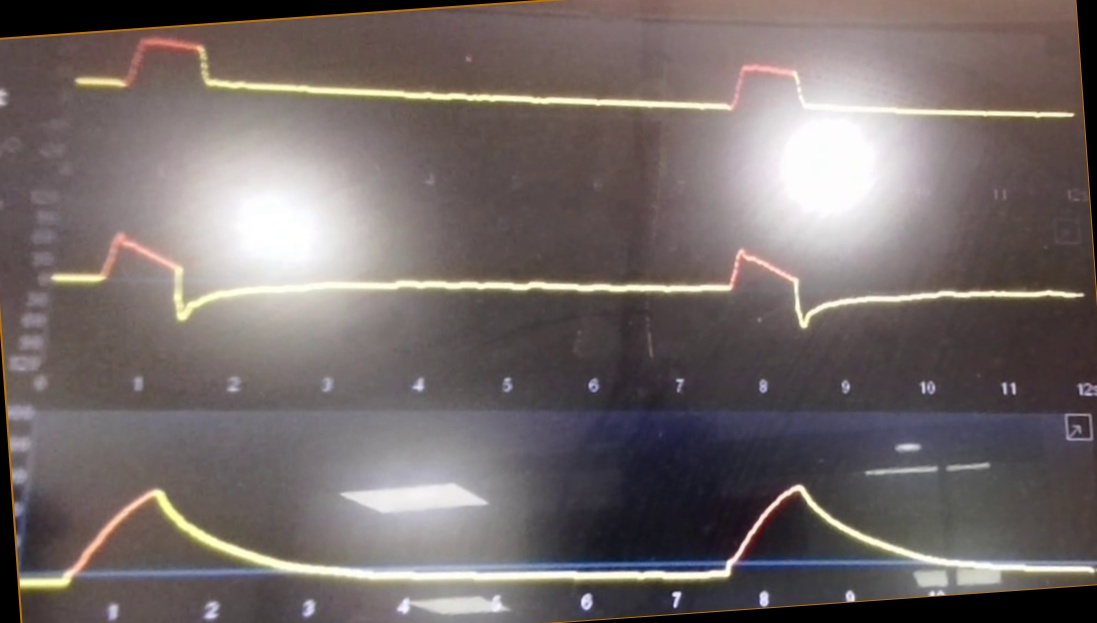Normal Flow: (50, 207, 1079, 363)
Normal Volume: (24, 456, 1097, 591)
